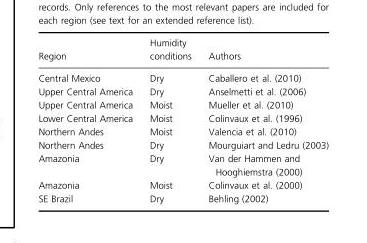table: (37, 37, 327, 203)
table column: (199, 37, 327, 203), (37, 37, 140, 203), (140, 37, 199, 203)
table column header: (37, 37, 327, 67)
table row: (37, 37, 327, 67), (37, 151, 327, 178), (37, 67, 327, 85), (37, 111, 327, 125), (37, 85, 327, 98), (37, 98, 327, 111), (37, 125, 327, 138), (37, 138, 327, 151), (37, 178, 327, 191), (37, 191, 327, 203)
